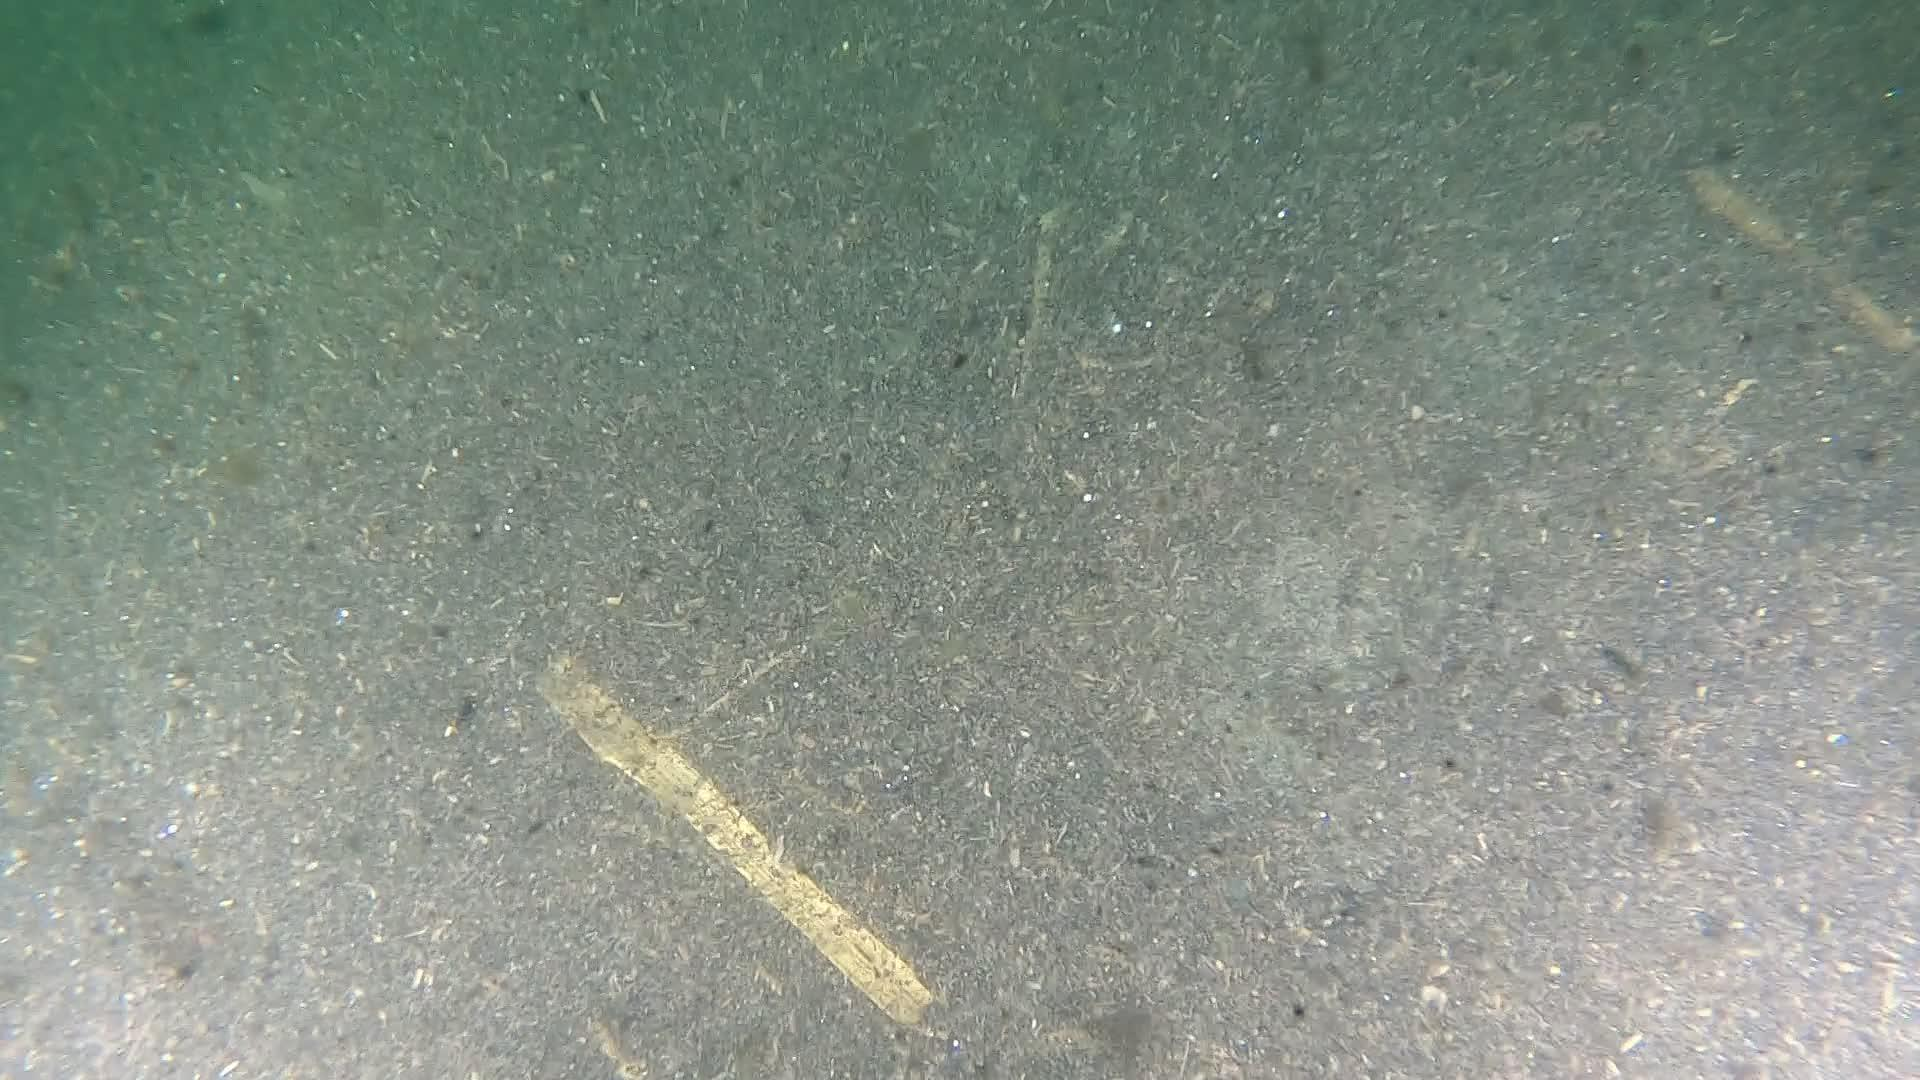wood: (530, 650, 936, 1035)
